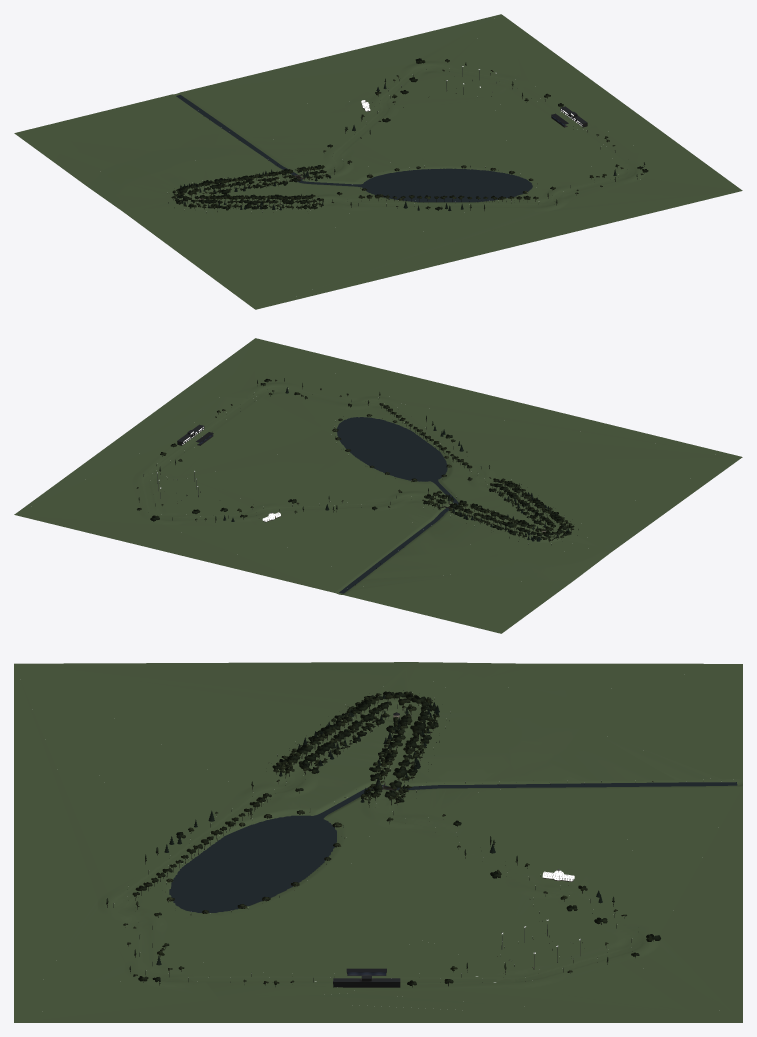
File: park.m.glb
The picture shows the model from 3 angles, top to bottom: view 1: azimuth 30°, elevation 25°; view 2: azimuth 150°, elevation 25°; view 3: azimuth 270°, elevation 25°; orthographic projection. The views are drawn at different scales.
Visible parts, largest first — view 1: ground_-2_-2, ground_-5_2, ground_-2_3, ground_-4_2, ground_-2_0, water, ground_-1_1, ground_0_1, ground_-3_-1, ground_-5_-2, ground_-3_2, ground_-3_0 (+28 smaller); view 2: ground_-2_-2, ground_-2_3, ground_-5_2, ground_-4_2, ground_-2_0, ground_-1_1, water, ground_0_1, ground_-3_-1, ground_-5_-2, ground_-3_2, ground_-3_0 (+27 smaller); view 3: ground_-2_-2, ground_-5_2, ground_-2_3, ground_-4_2, ground_-2_0, ground_-1_1, water, ground_0_1, ground_-3_-1, ground_-5_-2, ground_-3_2, ground_-3_0 (+29 smaller).
Part boxes in pixels (x1,y1,x2,y2): ground_-2_-2: [181, 14, 500, 100]; ground_-5_2: [212, 210, 351, 309]; ground_-2_3: [256, 191, 741, 309]; ground_-4_2: [256, 207, 473, 309]; ground_-2_0: [362, 97, 495, 166]; water: [176, 95, 532, 202]; ground_-1_1: [492, 92, 625, 170]; ground_0_1: [503, 15, 741, 190]; ground_-3_-1: [196, 98, 360, 145]; ground_-5_-2: [14, 94, 177, 151]; ground_-3_2: [258, 201, 533, 308]; ground_-3_0: [247, 127, 423, 177]; ground_-2_-2: [15, 515, 333, 592]; ground_-2_3: [256, 338, 740, 456]; ground_-5_2: [495, 457, 742, 519]; ground_-4_2: [425, 428, 740, 469]; ground_-2_0: [186, 451, 364, 510]; ground_-1_1: [161, 396, 334, 475]; water: [337, 417, 458, 593]; ground_0_1: [16, 338, 254, 513]; ground_-3_-1: [267, 509, 402, 580]; ground_-5_-2: [345, 574, 501, 633]; ground_-3_2: [402, 404, 741, 464]; ground_-3_0: [312, 467, 439, 546]; ground_-2_-2: [591, 787, 742, 1022]; ground_-5_2: [14, 663, 346, 789]; ground_-2_3: [14, 664, 97, 1022]; ground_-4_2: [14, 664, 243, 860]; ground_-2_0: [298, 858, 517, 958]; ground_-1_1: [190, 901, 490, 981]; water: [169, 782, 737, 912]; ground_0_1: [14, 981, 740, 1022]; ground_-3_-1: [466, 788, 709, 874]; ground_-5_-2: [582, 664, 742, 779]; ground_-3_2: [14, 664, 234, 891]; ground_-3_0: [330, 788, 554, 864].
Bounding box in the file's own units: 1220 × 28.69 × 1047.
